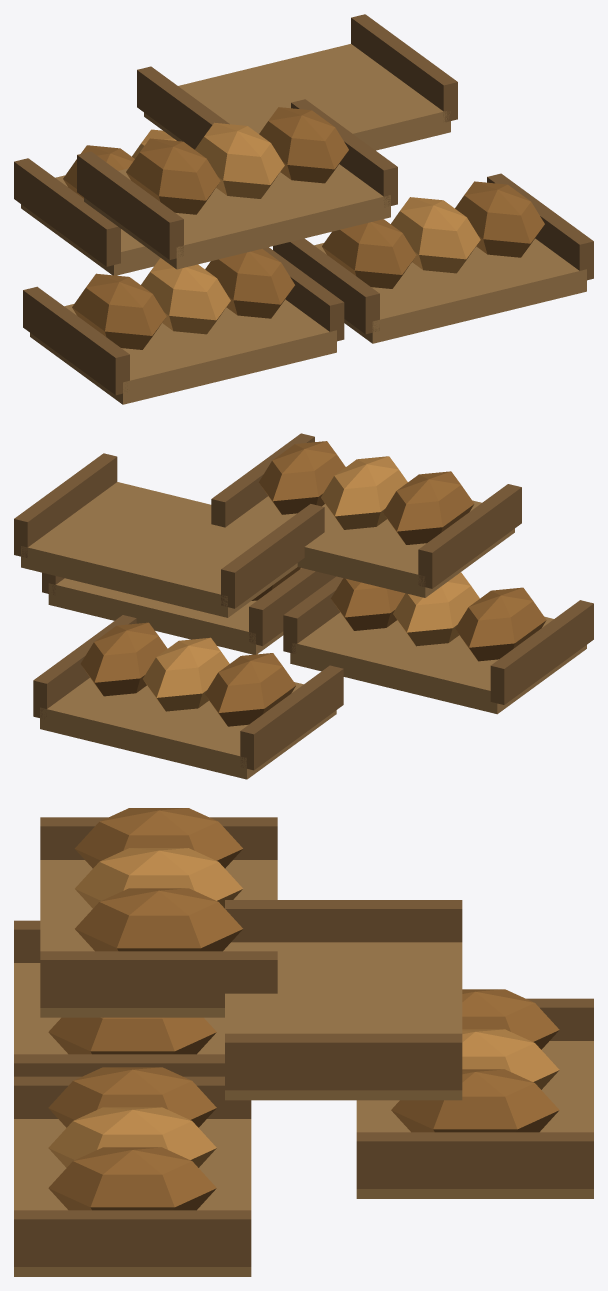
The model's file is pile_bread_2.glb.
3 renders of one model, top to bottom at view 1: azimuth 30°, elevation 25°; view 2: azimuth 150°, elevation 25°; view 3: azimuth 270°, elevation 25°, orthographic. The views are drawn at different scales.
Parts seen in each view (by area): view 1: pile_bread_2; view 2: pile_bread_2; view 3: pile_bread_2.
Boxes of the visible parts, <box> form: pile_bread_2: <box>14,14,593,404</box>; pile_bread_2: <box>14,433,593,779</box>; pile_bread_2: <box>14,808,593,1276</box>.
Bounding box in the file's own units: 1.34 × 0.51 × 1.1.
